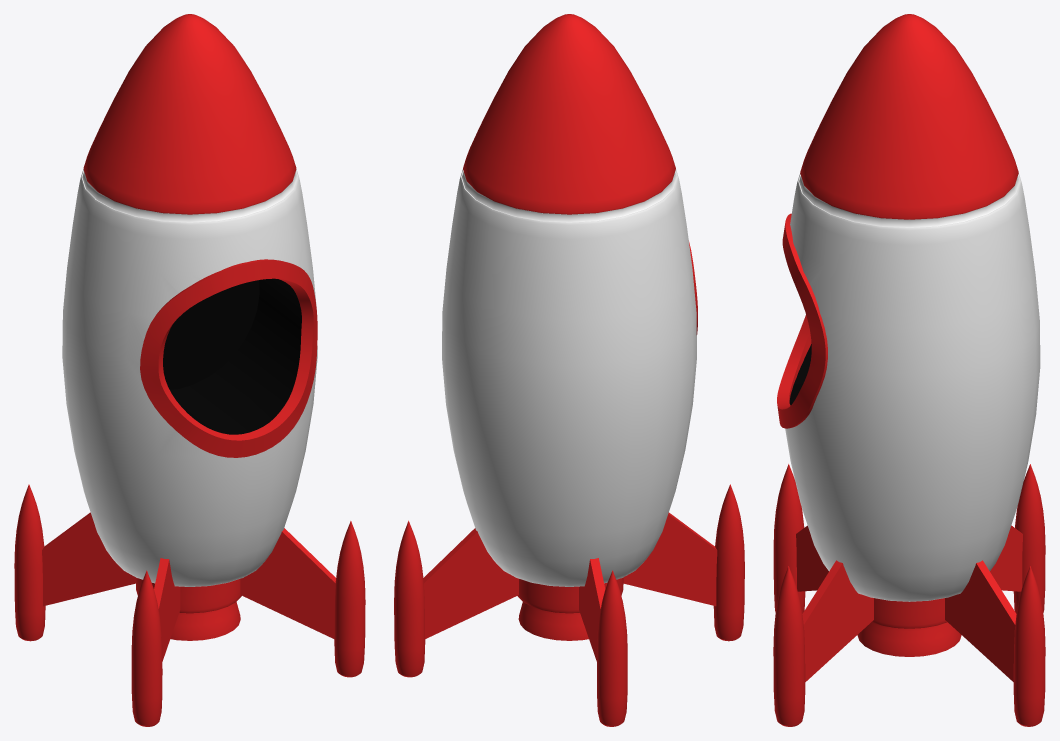
The model's file is rocket-no-astronaut.glb.
The picture shows the model from 3 angles, left to right: view 1: azimuth 30°, elevation 25°; view 2: azimuth 150°, elevation 25°; view 3: azimuth 270°, elevation 25°; orthographic projection. The views are drawn at different scales.
Visible parts, largest first — view 1: Circle.010, Circle.012, Plane.003, Circle.011, Circle.009, Plane.002; view 2: Circle.010, Plane.002, Circle.009, Circle.011, Plane.003; view 3: Circle.010, Circle.011, Circle.009, Plane.003, Plane.002, Circle.012.
Boxes of the visible parts, left/top/right/bottom form: Circle.010: left=62, top=14, right=317, bottom=640; Circle.012: left=140, top=259, right=317, bottom=457; Plane.003: left=42, top=512, right=335, bottom=639; Circle.011: left=14, top=484, right=365, bottom=677; Circle.009: left=131, top=570, right=162, bottom=726; Plane.002: left=154, top=558, right=180, bottom=661; Circle.010: left=442, top=14, right=696, bottom=640; Plane.002: left=423, top=512, right=717, bottom=639; Circle.009: left=394, top=484, right=744, bottom=677; Circle.011: left=597, top=570, right=627, bottom=726; Plane.003: left=579, top=558, right=605, bottom=661; Circle.010: left=785, top=14, right=1040, bottom=656; Circle.011: left=773, top=464, right=1045, bottom=726; Circle.009: left=773, top=464, right=1045, bottom=726; Plane.003: left=802, top=525, right=1022, bottom=681; Plane.002: left=796, top=525, right=1016, bottom=681; Circle.012: left=777, top=213, right=827, bottom=428.
Size of the model in its own units: 1.05 by 2.81 by 1.05.
